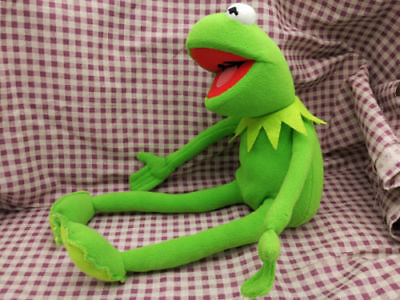kermit: (182, 2, 303, 118)
